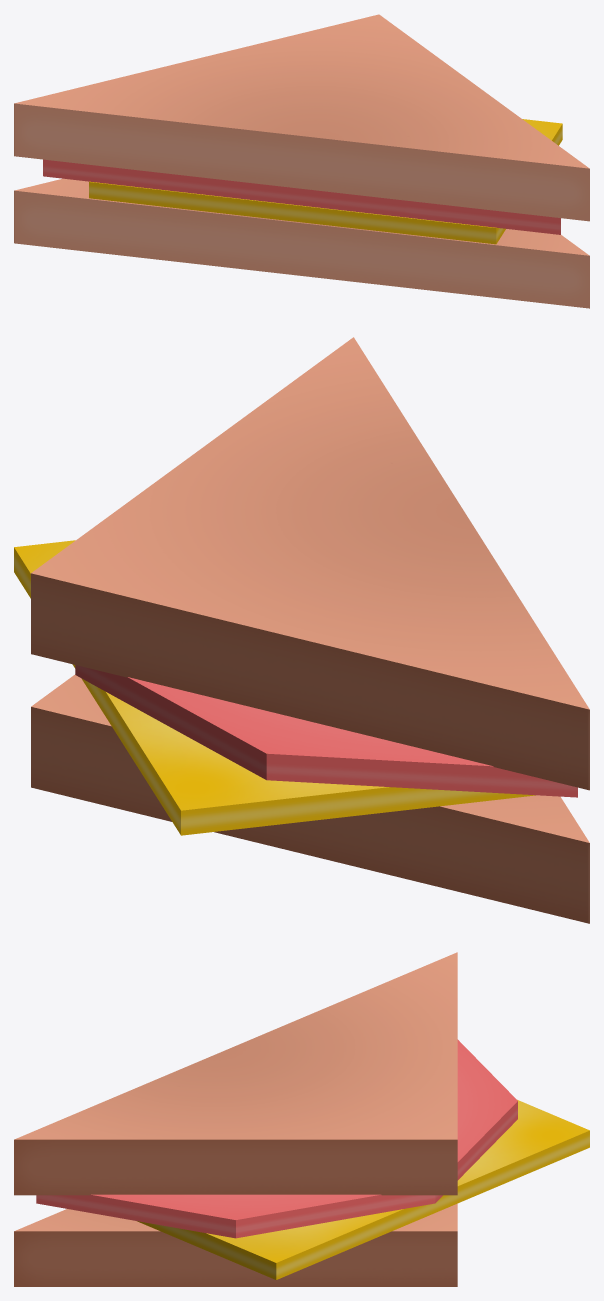
The model's file is Sandwich.fbx.
3 views of the same model, one above another, from view 1: azimuth 30°, elevation 25°; view 2: azimuth 150°, elevation 25°; view 3: azimuth 270°, elevation 25° (orthographic). The views are drawn at different scales.
Parts seen in each view (by area): view 1: polySurface1; view 2: polySurface1; view 3: polySurface1.
Part boxes in pixels (x1,y1,x2,y2): polySurface1: (14,14,589,308); polySurface1: (14,337,589,923); polySurface1: (14,952,589,1286).
Bounding box in the file's own units: 0.5055 × 0.1462 × 0.5182.
